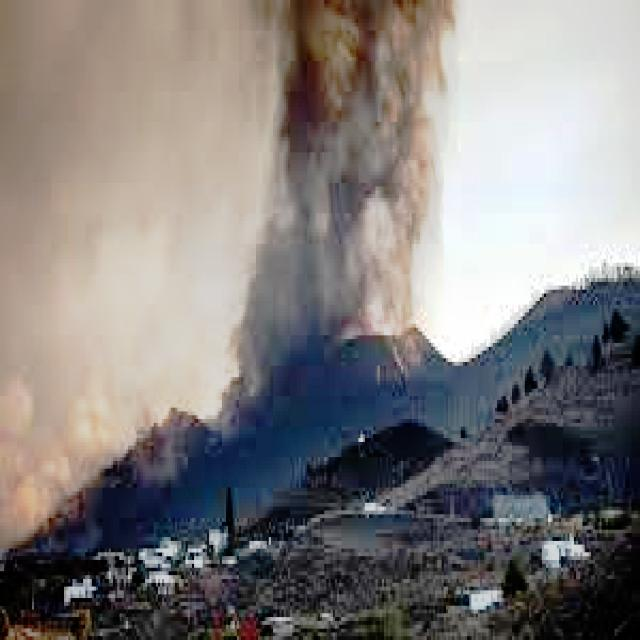asap: (1, 1, 464, 349), (2, 351, 133, 516)
